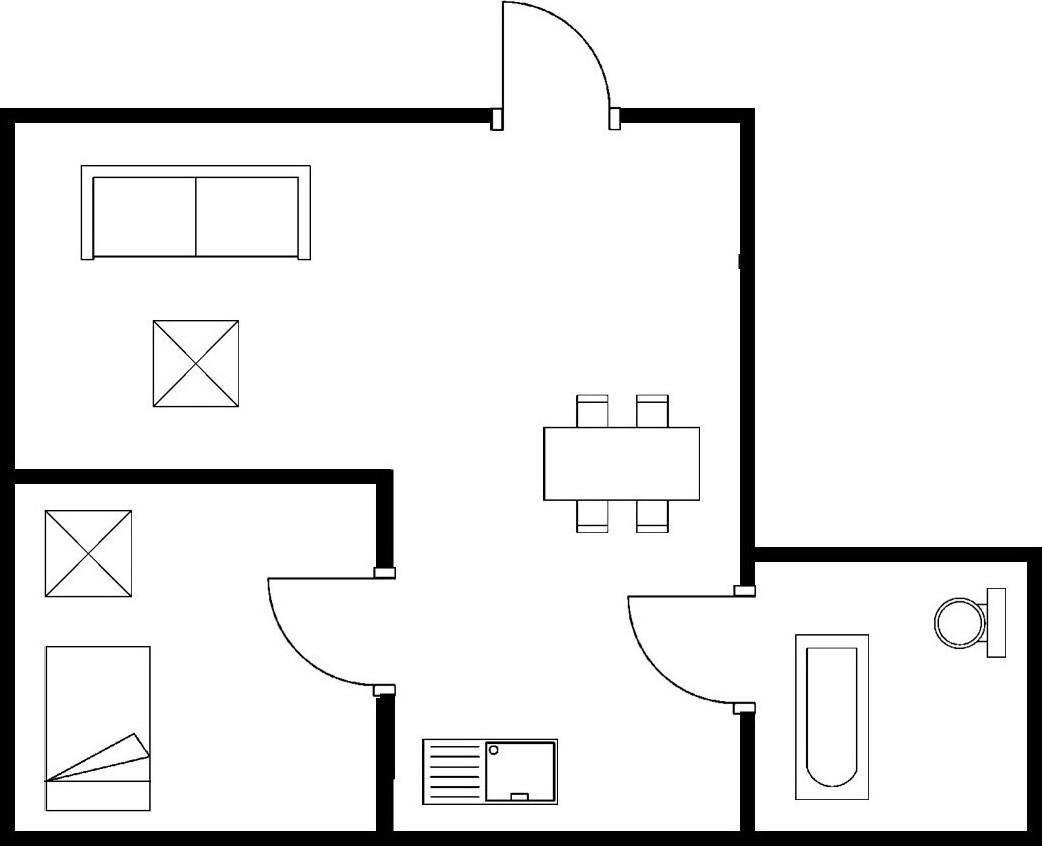bed: (39, 639, 157, 816)
dining_table: (538, 388, 706, 538)
sink: (418, 734, 562, 808)
sofa: (76, 159, 316, 267)
toilet: (929, 583, 1010, 665)
tub: (787, 628, 875, 806)
